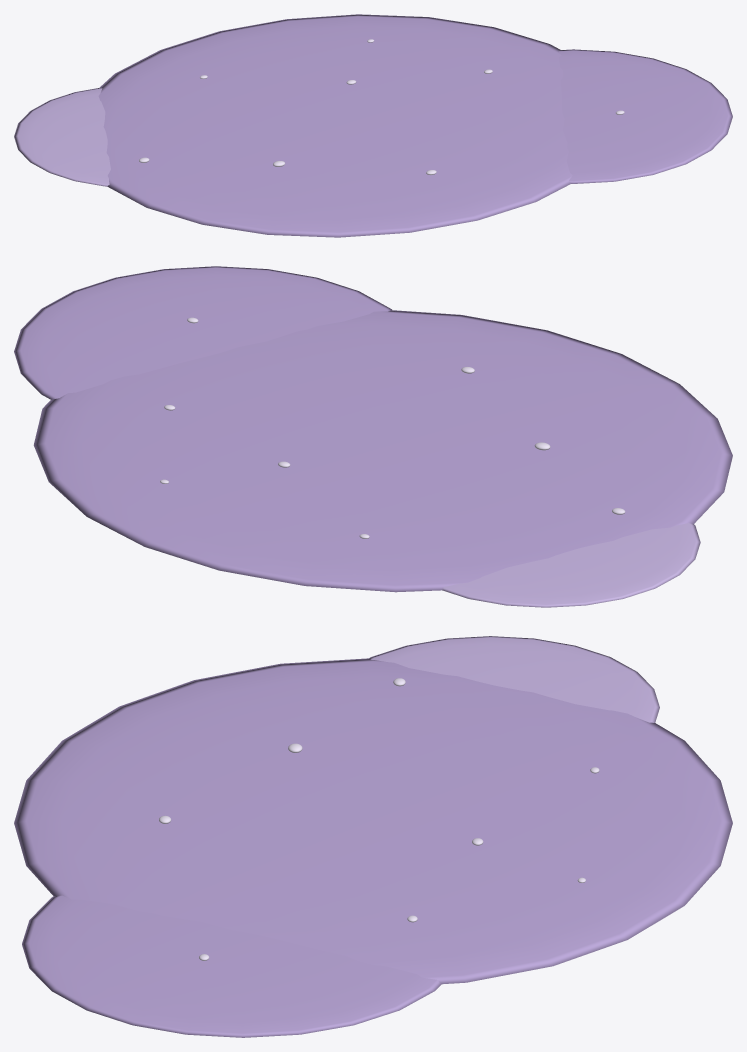
The model's file is e_creep.glb.
3 renders of one model, top to bottom at view 1: azimuth 30°, elevation 25°; view 2: azimuth 150°, elevation 25°; view 3: azimuth 270°, elevation 25°, orthographic. The views are drawn at different scales.
Parts seen in each view (by area): view 1: ec_c0.005, ec_c1.005, ec_c2.005; view 2: ec_c0.005, ec_c1.005, ec_c2.005; view 3: ec_c0.005, ec_c1.005, ec_c2.005.
Part boxes in pixels (x1,y1,x2,y2): ec_c0.005: [98, 14, 572, 237]; ec_c1.005: [558, 49, 732, 183]; ec_c2.005: [14, 88, 110, 186]; ec_c0.005: [33, 310, 732, 592]; ec_c1.005: [14, 266, 391, 399]; ec_c2.005: [442, 523, 700, 607]; ec_c0.005: [14, 658, 732, 984]; ec_c1.005: [22, 895, 441, 1037]; ec_c2.005: [369, 636, 659, 722].
Size of the model in its own units: 7.3 by 0.1715 by 5.52.
